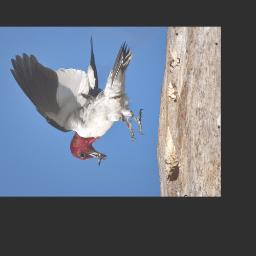Woodpecker: (10, 36, 144, 164)
